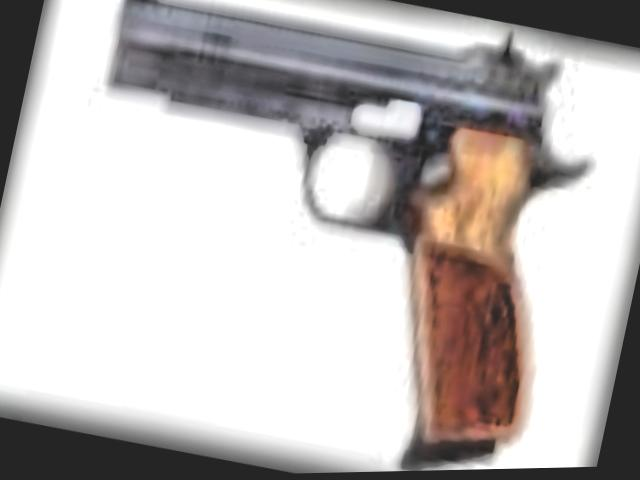pistol: (27, 0, 618, 480)
